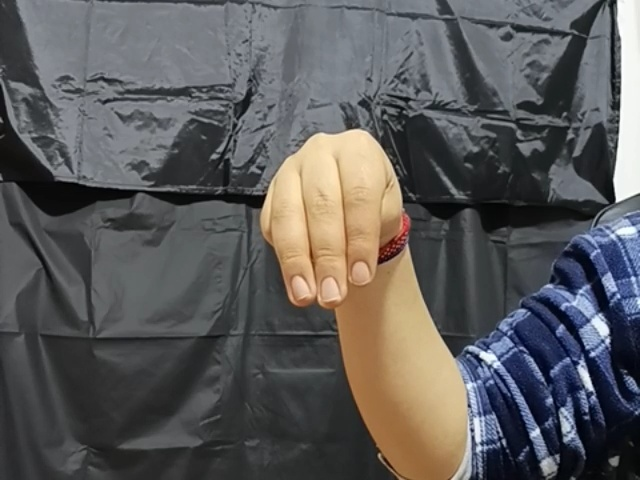M: (257, 126, 423, 310)
